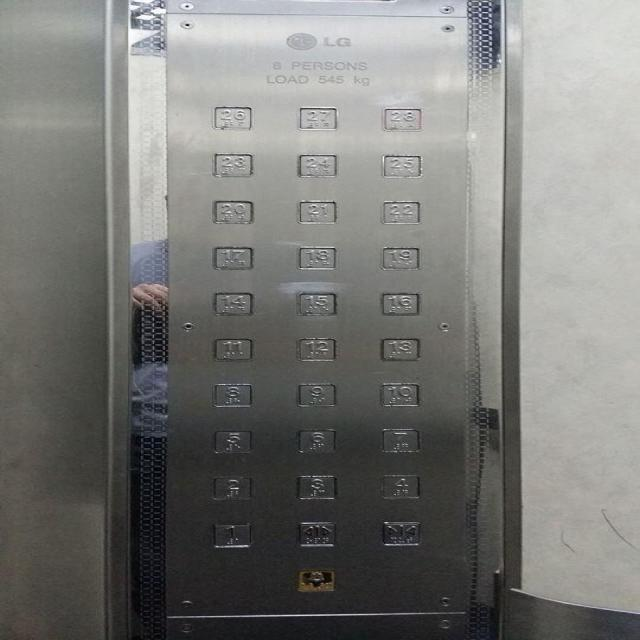1: (208, 520, 254, 549)
10: (378, 382, 421, 407)
11: (212, 337, 253, 361)
12: (295, 335, 337, 362)
13: (378, 337, 421, 360)
14: (212, 290, 253, 316)
15: (295, 291, 338, 316)
16: (378, 291, 420, 316)
17: (212, 245, 255, 270)
18: (295, 246, 337, 269)
19: (380, 246, 420, 270)
2: (212, 475, 253, 500)
20: (210, 200, 253, 223)
21: (298, 199, 336, 224)
22: (378, 200, 421, 226)
23: (210, 151, 256, 178)
24: (295, 151, 338, 178)
25: (378, 153, 422, 177)
26: (210, 105, 252, 129)
27: (295, 105, 338, 131)
28: (381, 107, 423, 131)
3: (294, 474, 339, 499)
4: (380, 474, 421, 499)
5: (212, 430, 254, 456)
6: (295, 428, 337, 456)
7: (378, 427, 422, 454)
8: (211, 383, 254, 407)
9: (295, 381, 337, 407)
alarm: (292, 567, 340, 595)
close: (376, 518, 426, 548)
open: (293, 519, 340, 548)
